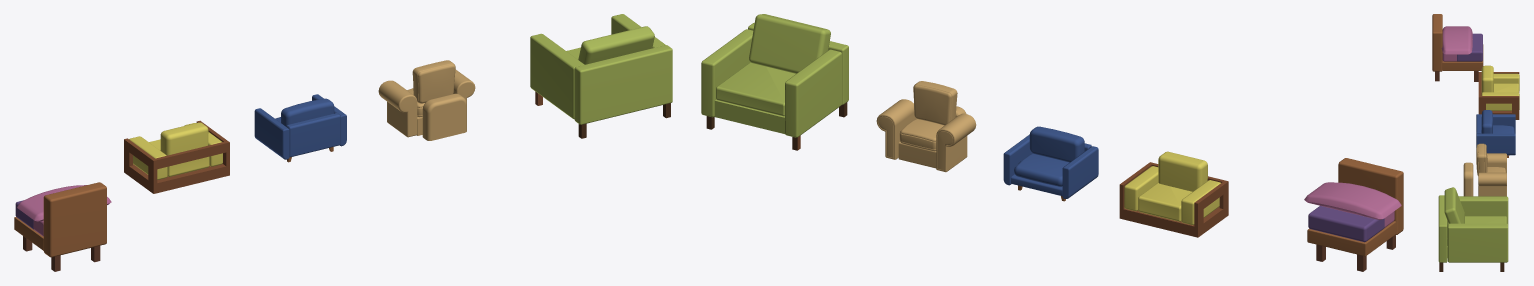
The model's file is CouchTest.fbx.
The picture shows the model from 3 angles, left to right: view 1: azimuth 30°, elevation 25°; view 2: azimuth 150°, elevation 25°; view 3: azimuth 270°, elevation 25°; orthographic projection. The views are drawn at different scales.
Parts seen in each view (by area): view 1: frameBack, Couch5_frameBack, armRestR, Couch4_armRestR, Couch2_frameBack, cushionBack, Couch3_frameBack, Couch2_armRestR, Couch2_cushionBack, Couch4_CushionBack, Couch3_armRestR, Couch4_frameBack (+7 smaller); view 2: cushionSeat, armRestR, cushionBack, Couch5_cushionSeat, Couch5_cushionBack, armRestL, Couch4_armRestR, Couch5_frameBack, Couch4_cushionSeat, Couch3_cushionSeat, Couch2_cushionBack, Couch2_cushionSeat (+8 smaller); view 3: armRestL, Couch5_cushionSeat, armRestR, Couch4_armRestL, Couch5_cushionBack, Couch3_armRestL, Couch2_armRestL, Couch5_frameBack, frameBack, cushionBack, cushionSeat, Couch2_frameBack (+10 smaller).
Part boxes in pixels (box(x1,y1,x2,y2)): frameBack: box(574, 45, 672, 138); Couch5_frameBack: box(43, 182, 106, 271); armRestR: box(530, 33, 584, 119); Couch4_armRestR: box(124, 136, 170, 193); Couch2_frameBack: box(422, 93, 466, 140); cushionBack: box(578, 26, 654, 64); Couch3_frameBack: box(286, 113, 340, 157); Couch2_armRestR: box(378, 80, 417, 137); Couch2_cushionBack: box(412, 60, 455, 103); Couch4_CushionBack: box(160, 122, 208, 155); Couch3_armRestR: box(254, 108, 289, 159); Couch4_frameBack: box(168, 145, 212, 189); cushionSeat: box(714, 62, 795, 133); armRestR: box(785, 49, 841, 150); cushionBack: box(749, 14, 830, 73); Couch5_cushionSeat: box(1307, 205, 1396, 271); Couch5_cushionBack: box(1304, 182, 1401, 219); armRestL: box(701, 29, 753, 129); Couch4_armRestR: box(1180, 177, 1228, 237); Couch5_frameBack: box(1338, 158, 1403, 249); Couch4_cushionSeat: box(1137, 183, 1192, 233); Couch3_cushionSeat: box(1011, 153, 1068, 201); Couch2_cushionBack: box(913, 81, 957, 125); Couch2_cushionSeat: box(898, 119, 943, 168); armRestL: box(1447, 223, 1508, 271); Couch5_cushionSeat: box(1442, 33, 1483, 81); armRestR: box(1458, 196, 1508, 224); Couch4_armRestL: box(1478, 91, 1519, 119); Couch5_cushionBack: box(1441, 26, 1472, 54); Couch3_armRestL: box(1476, 133, 1515, 155); Couch2_armRestL: box(1478, 172, 1506, 196); Couch5_frameBack: box(1432, 14, 1442, 81); frameBack: box(1438, 195, 1447, 271); cushionBack: box(1444, 187, 1464, 223); cushionSeat: box(1447, 216, 1506, 257); Couch2_frameBack: box(1463, 162, 1473, 196).
Size of the model in its own units: 550 by 73.26 by 95.56.
2 materials, 2 textured.
